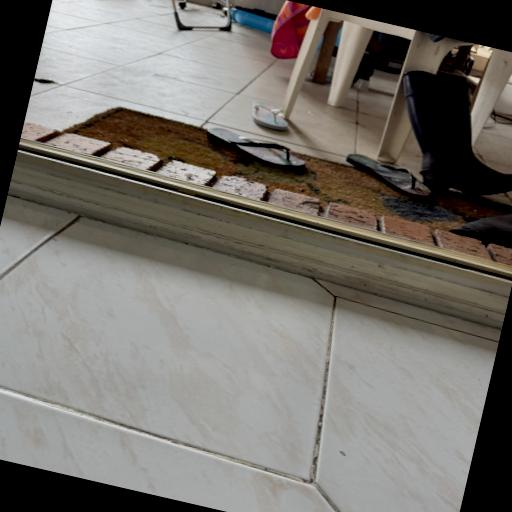step: (8, 141, 512, 329)
